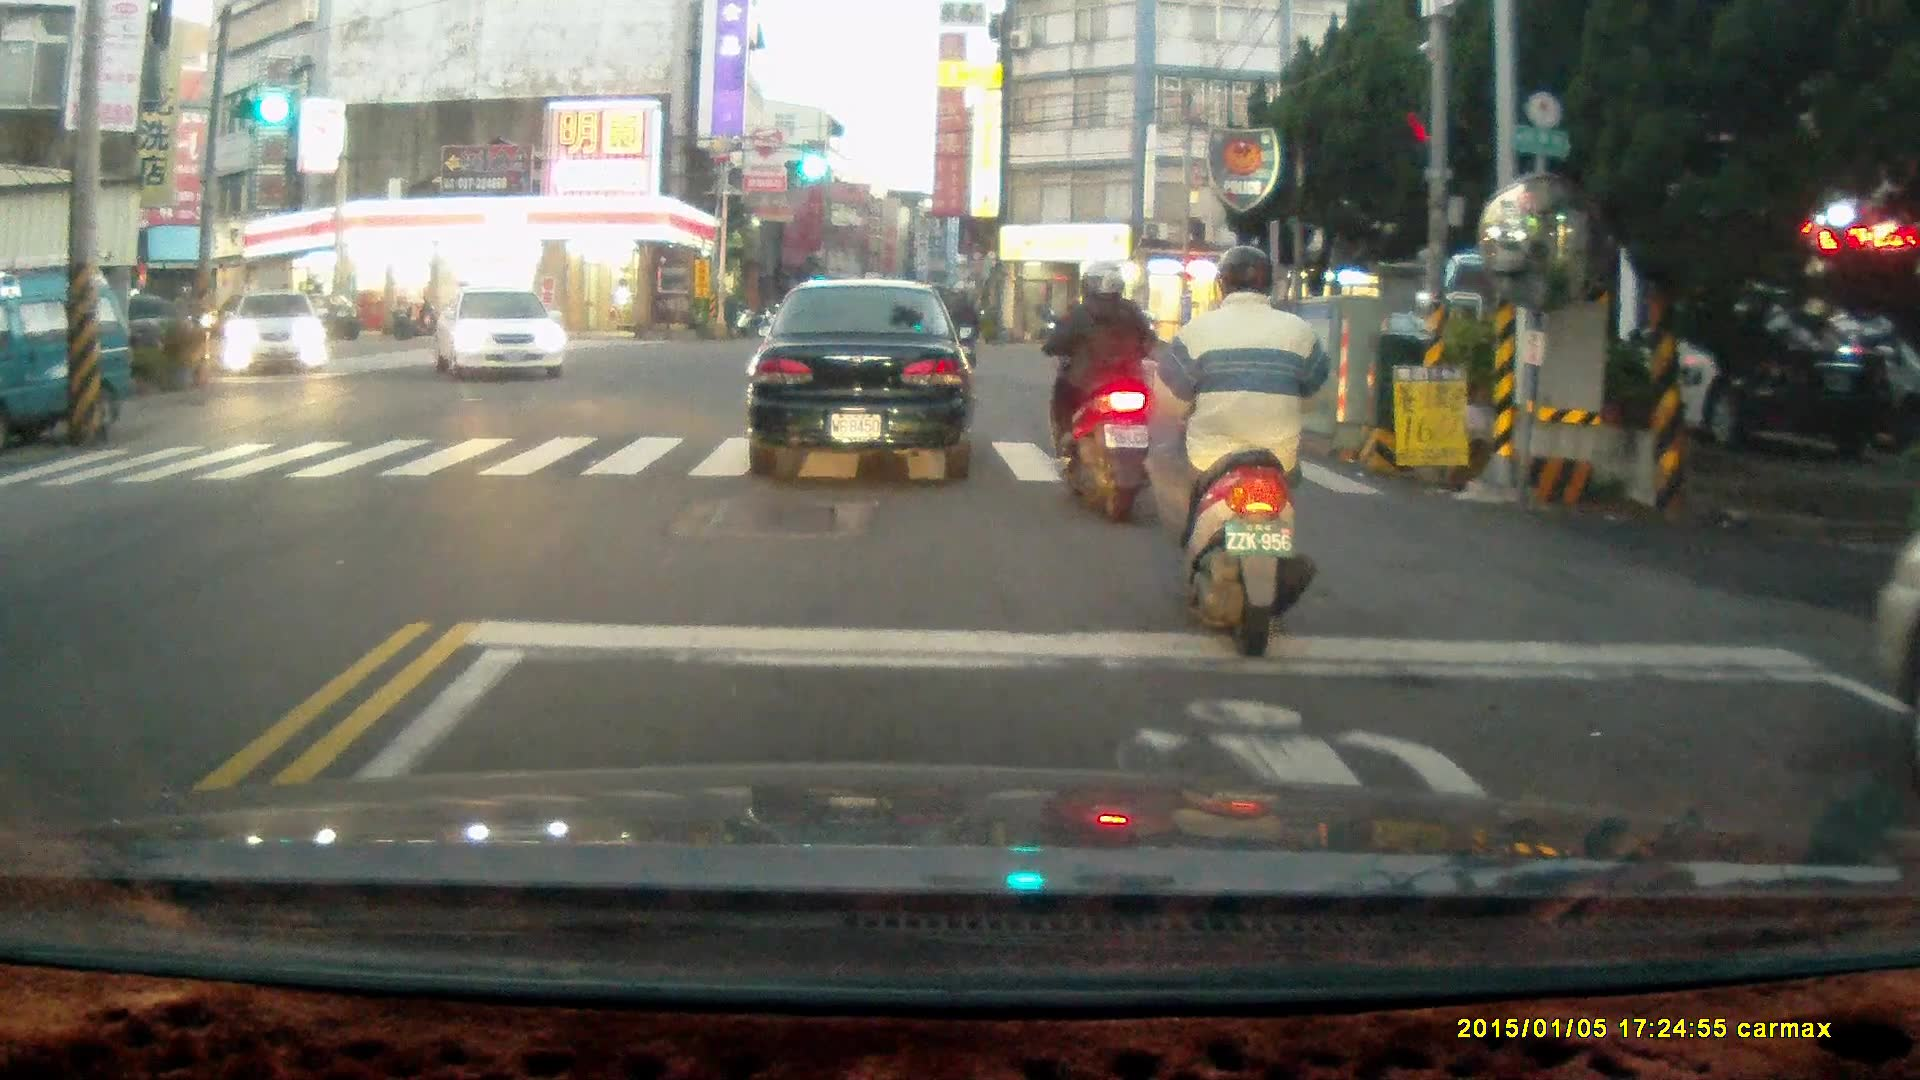rider: (1142, 235, 1334, 639), (1029, 259, 1165, 525), (939, 288, 981, 381)
vehicle: (1555, 279, 1897, 448), (746, 276, 975, 478), (1, 267, 138, 459), (434, 289, 569, 380), (223, 290, 331, 379)
